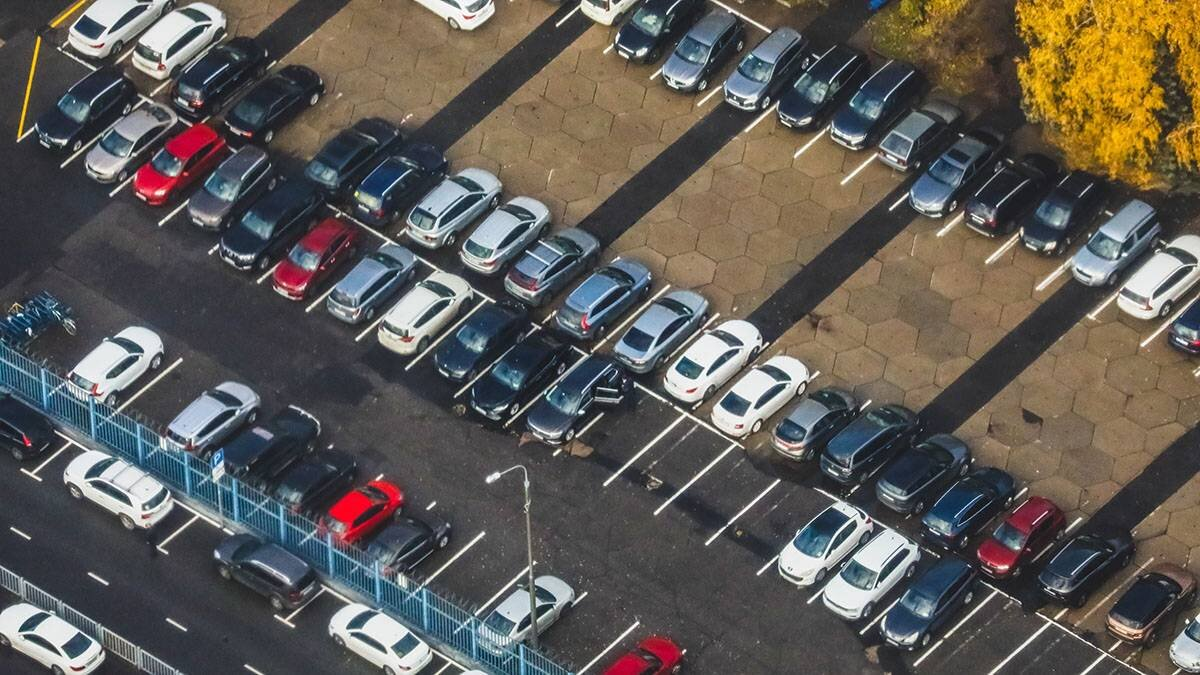Car: (217, 177, 328, 273), (466, 331, 573, 423), (524, 355, 631, 446), (33, 66, 139, 156), (62, 450, 176, 533), (878, 556, 977, 651), (821, 529, 921, 622), (908, 127, 1007, 220), (828, 60, 927, 151), (663, 319, 765, 406), (375, 271, 475, 359), (131, 123, 234, 208), (220, 405, 323, 490), (817, 403, 921, 487), (212, 534, 322, 613), (612, 289, 711, 375), (350, 143, 450, 228), (304, 117, 405, 201), (776, 502, 874, 588), (554, 257, 654, 341), (169, 37, 269, 121), (223, 64, 327, 144), (711, 355, 811, 438), (403, 168, 504, 250), (776, 44, 870, 131), (129, 2, 231, 82), (1036, 526, 1135, 608), (874, 434, 973, 516), (1070, 200, 1163, 287), (83, 102, 181, 184), (478, 575, 576, 657), (432, 302, 529, 384), (920, 468, 1018, 549), (67, 325, 166, 405), (270, 215, 361, 302), (964, 154, 1059, 237), (186, 146, 277, 232), (0, 602, 106, 675), (975, 496, 1066, 581), (503, 228, 599, 307), (459, 196, 553, 276), (1020, 170, 1108, 255), (1115, 233, 1200, 321), (164, 382, 262, 458), (723, 27, 809, 113), (328, 604, 432, 675), (1105, 565, 1197, 645), (325, 244, 417, 324), (661, 10, 745, 93), (67, 0, 177, 60), (877, 99, 964, 174), (771, 388, 858, 462), (363, 511, 453, 582), (273, 445, 361, 517), (318, 478, 406, 548), (613, 0, 705, 62), (0, 393, 56, 463), (600, 634, 686, 675), (412, 0, 497, 32), (1167, 611, 1200, 675), (1167, 296, 1200, 356), (579, 0, 640, 27), (458, 669, 490, 675)
